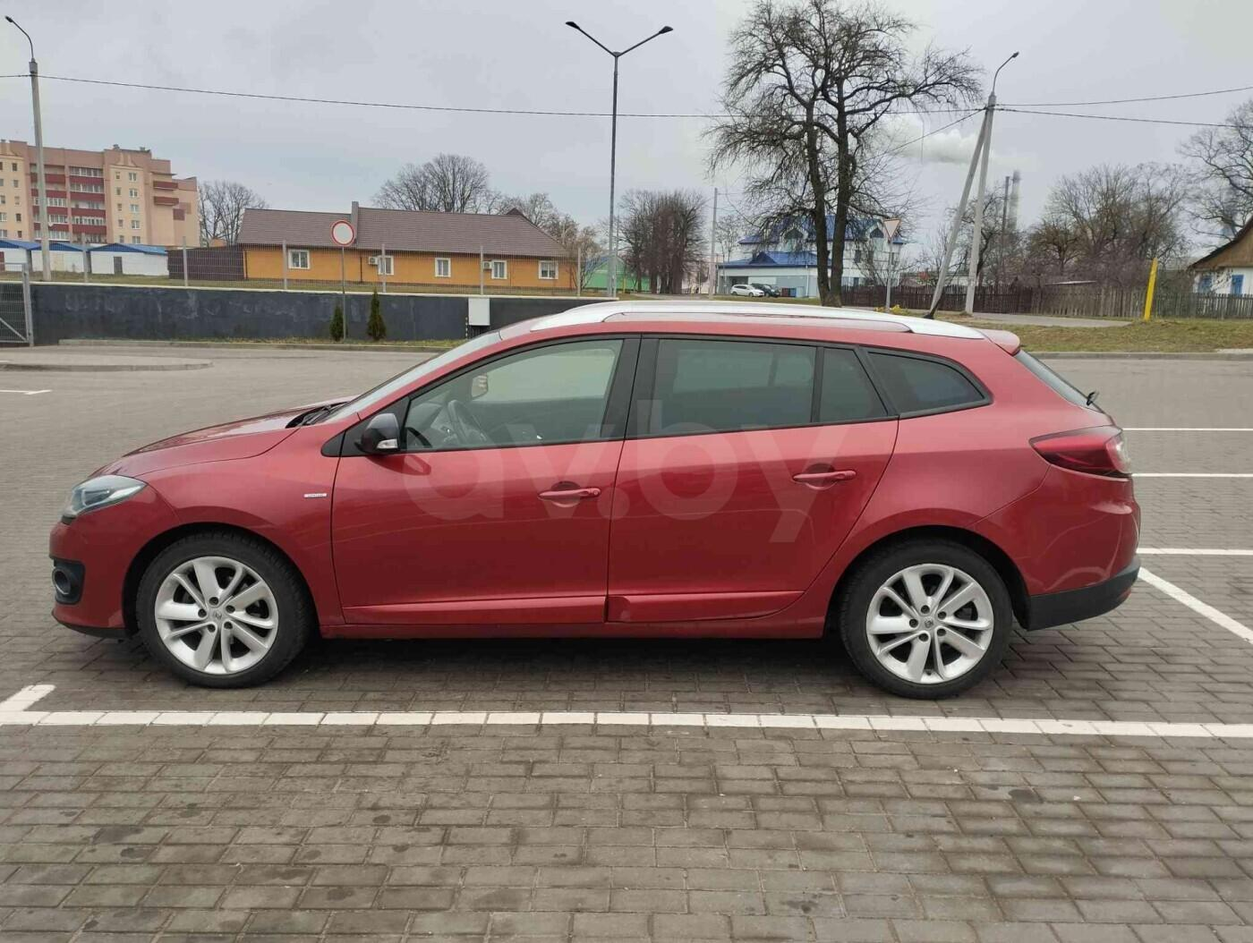Megane_2014-2016: (43, 291, 1155, 718)
